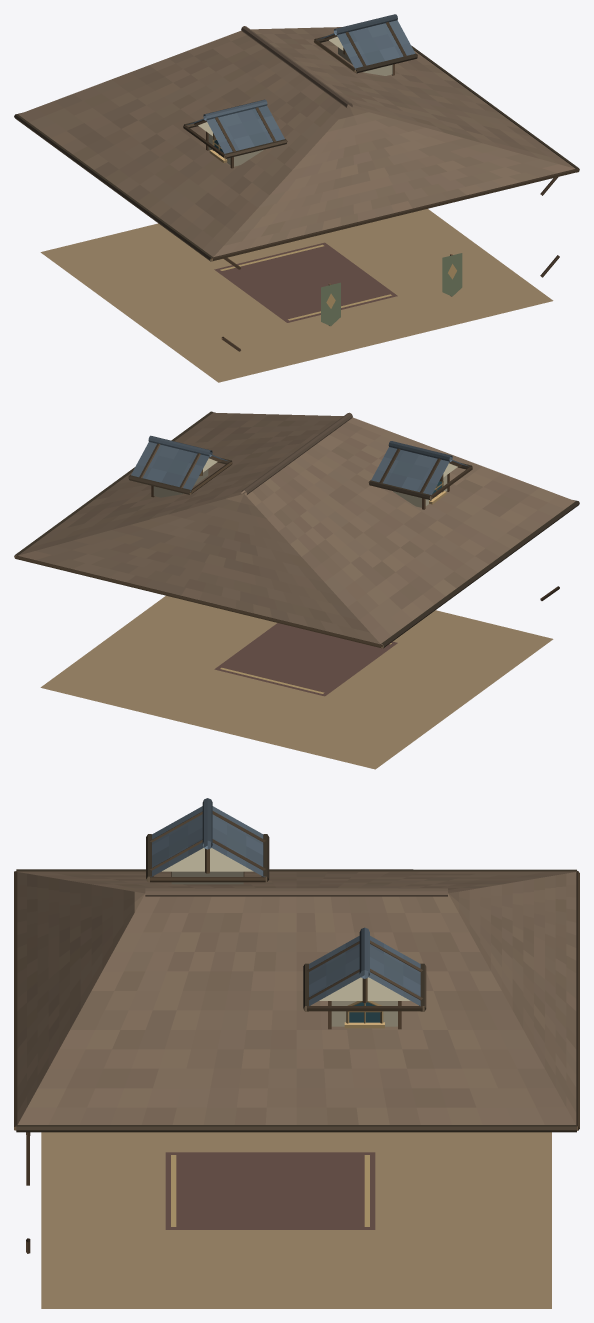
The picture shows the model from 3 angles, top to bottom: view 1: azimuth 30°, elevation 25°; view 2: azimuth 150°, elevation 25°; view 3: azimuth 270°, elevation 25°; orthographic projection. The views are drawn at different scales.
Visible parts, largest first — view 1: ddeaff8b70527d0dd15bc8e0ff602e3e705d4014b6f40cb36fa47aade313; view 2: ddeaff8b70527d0dd15bc8e0ff602e3e705d4014b6f40cb36fa47aade313; view 3: ddeaff8b70527d0dd15bc8e0ff602e3e705d4014b6f40cb36fa47aade313.
Boxes of the visible parts, x1,y1,x2,y2 form: ddeaff8b70527d0dd15bc8e0ff602e3e705d4014b6f40cb36fa47aade313: (14,14,579,382); ddeaff8b70527d0dd15bc8e0ff602e3e705d4014b6f40cb36fa47aade313: (14,411,579,769); ddeaff8b70527d0dd15bc8e0ff602e3e705d4014b6f40cb36fa47aade313: (14,798,579,1308).
Bounding box in the file's own units: 14.02 × 7.78 × 12.97.
